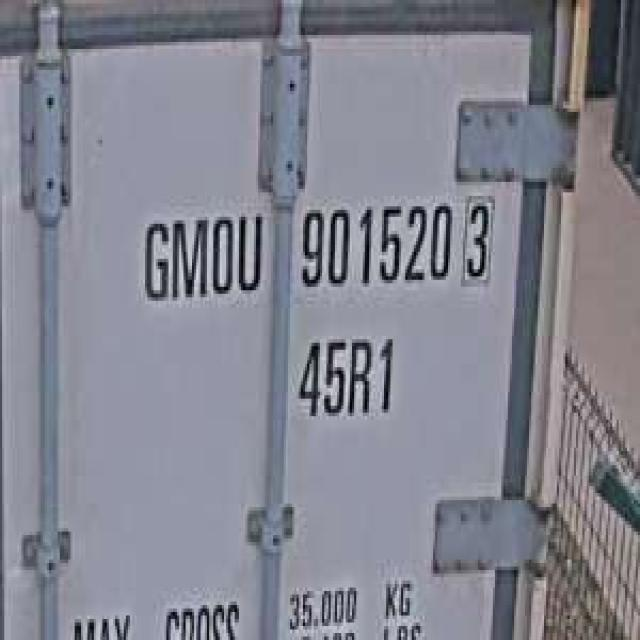dv: (459, 185, 497, 297)
owner: (134, 199, 267, 308)
serial: (292, 185, 454, 301)
size: (292, 322, 399, 426)
